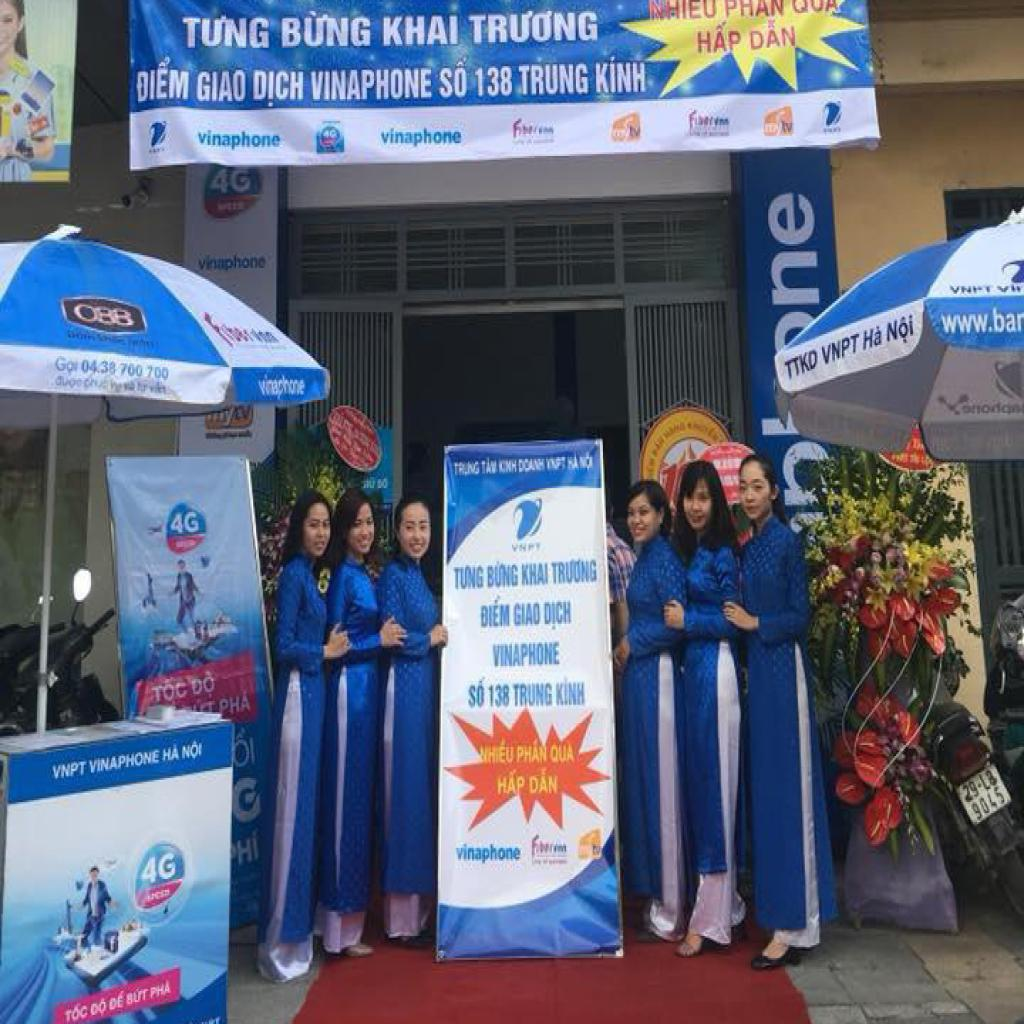text: (765, 191, 822, 310), (467, 7, 600, 48), (307, 66, 435, 105), (280, 9, 374, 53), (179, 13, 272, 53), (135, 55, 195, 108), (380, 13, 461, 51), (938, 306, 1024, 339), (518, 61, 592, 99), (80, 356, 172, 384), (252, 66, 307, 112), (491, 638, 563, 672), (377, 125, 465, 152), (193, 66, 249, 108), (88, 747, 162, 778), (593, 55, 647, 97), (195, 129, 283, 154), (74, 301, 138, 332), (960, 764, 1003, 810), (230, 773, 262, 833), (695, 18, 744, 57), (452, 842, 524, 868), (199, 305, 238, 352), (253, 374, 310, 406), (748, 17, 798, 53), (436, 51, 470, 103), (140, 850, 180, 892), (819, 330, 862, 369), (649, 0, 718, 24), (196, 254, 268, 276), (474, 62, 514, 101), (550, 556, 599, 587), (784, 347, 822, 385), (150, 672, 190, 708), (209, 167, 255, 198), (722, 0, 786, 22), (235, 822, 263, 872), (233, 723, 259, 773), (218, 686, 256, 720), (478, 593, 512, 631), (512, 681, 555, 710), (476, 738, 518, 767), (486, 558, 520, 593), (542, 598, 574, 635), (885, 312, 916, 350), (555, 674, 587, 710), (515, 736, 549, 769), (452, 562, 486, 594), (190, 668, 220, 703), (529, 767, 560, 800), (520, 558, 552, 589), (496, 767, 526, 800), (50, 760, 90, 784), (511, 600, 543, 630), (171, 510, 203, 538), (486, 681, 512, 712), (468, 674, 488, 712), (63, 998, 91, 1024), (549, 741, 577, 767), (946, 283, 997, 297), (148, 976, 173, 1004), (125, 982, 149, 1011), (862, 323, 884, 354), (179, 738, 205, 763), (54, 356, 81, 380), (88, 993, 110, 1022), (54, 374, 84, 394), (452, 459, 482, 479), (106, 987, 126, 1015), (518, 457, 546, 477), (162, 742, 182, 766), (764, 121, 795, 136), (478, 455, 499, 477), (496, 457, 519, 477), (613, 125, 641, 141), (579, 450, 596, 475), (994, 284, 1024, 298), (529, 830, 542, 860), (510, 114, 524, 141), (687, 105, 700, 132), (568, 452, 582, 476), (323, 128, 338, 142)
